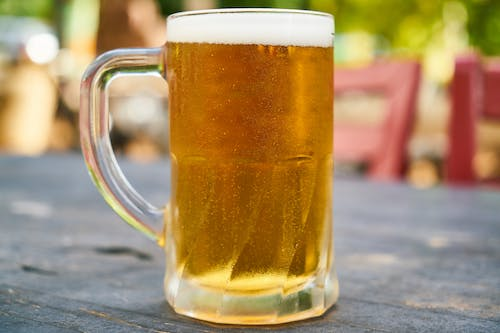alcohol: (79, 7, 341, 326)
